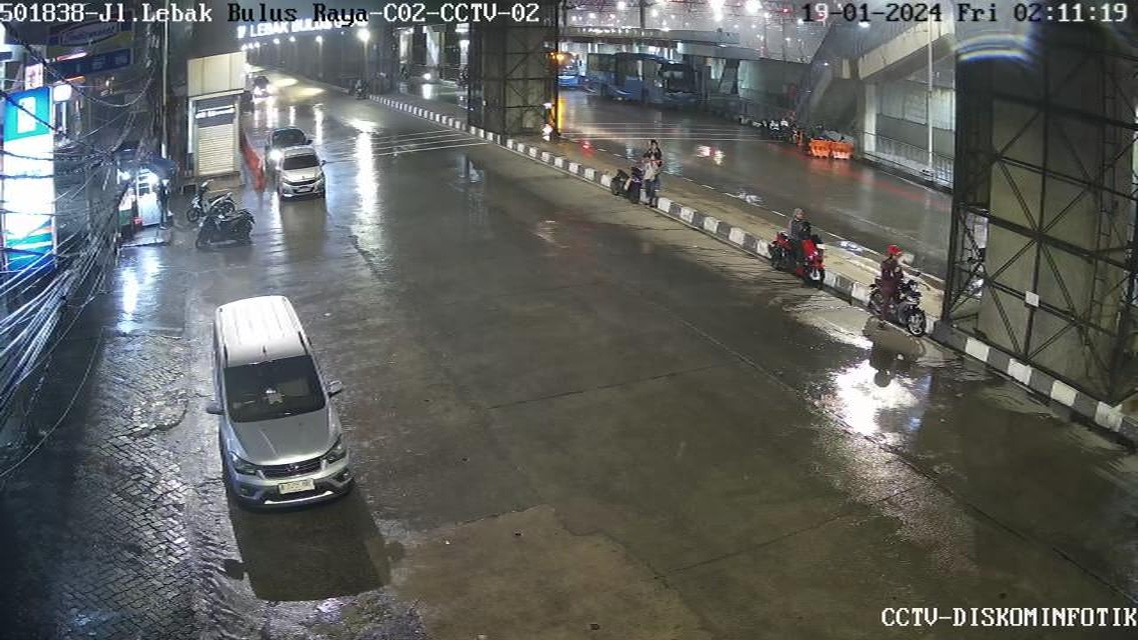Gerobak: (133, 165, 167, 227)
